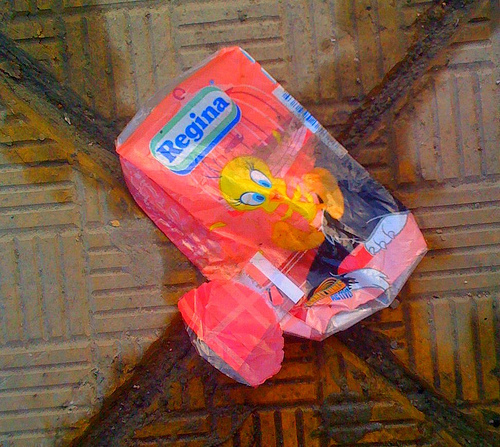litter: (113, 43, 429, 389)
